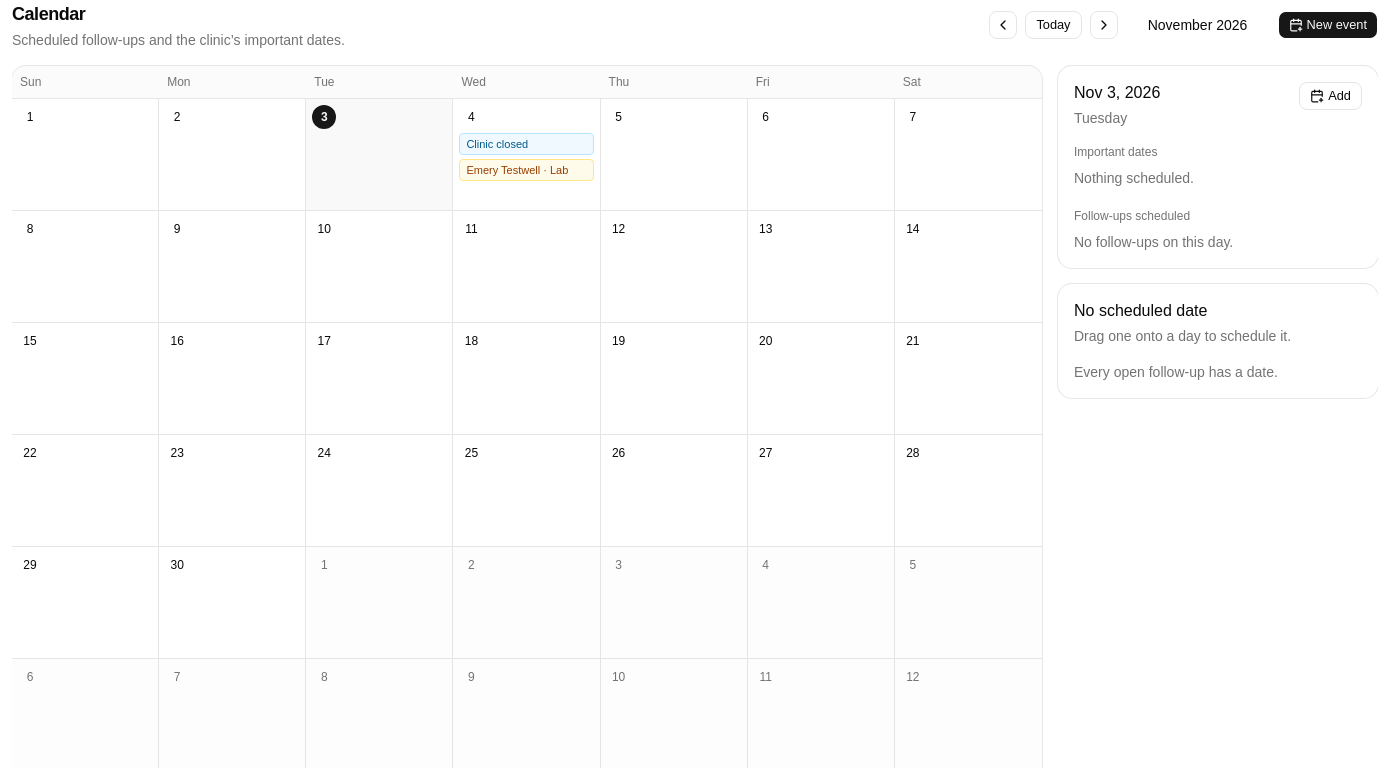
it: Calendar › puts events and follow-ups on their day
This screenshot has width=1390, height=768.
Click the 1st button "4". click: (471,117)
box: [459, 105, 483, 129]
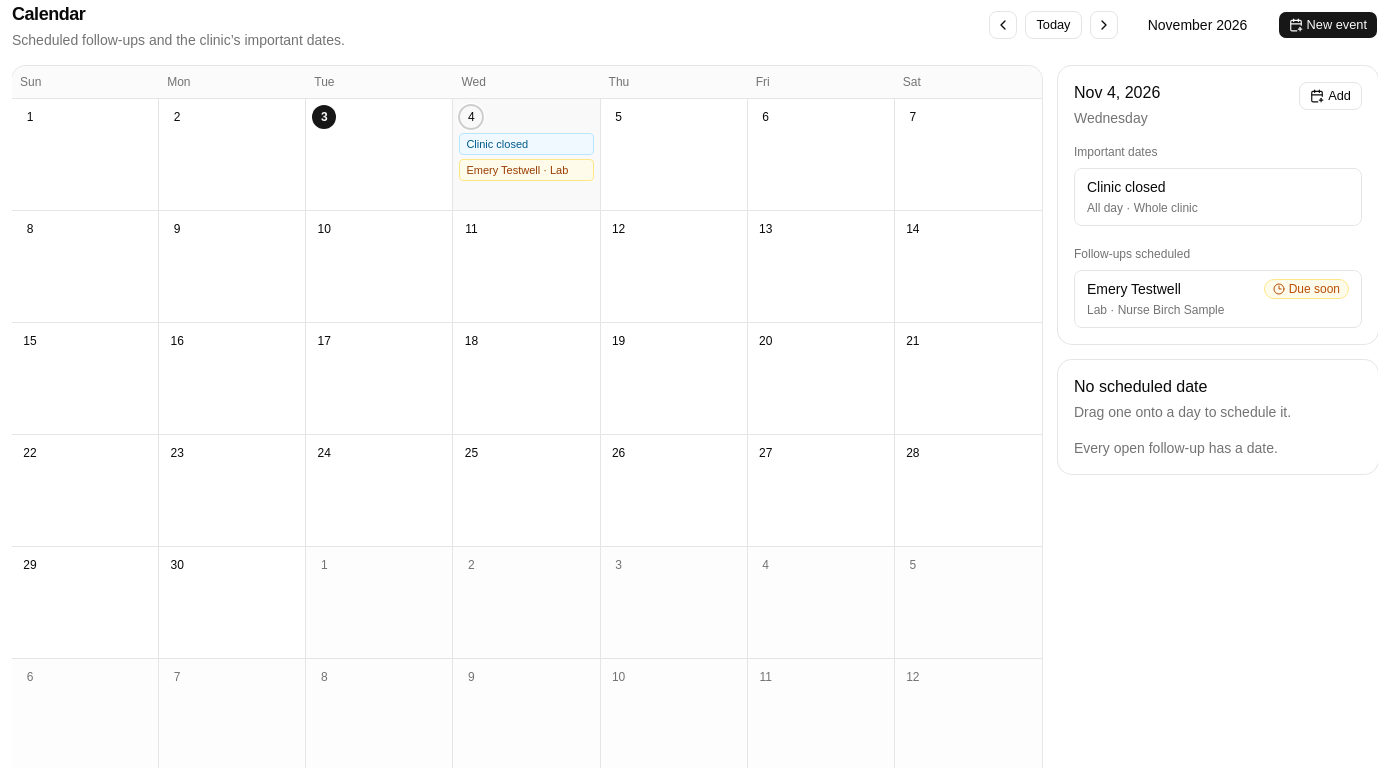
Expected: the number of buttons "Clinic closed" is 2, [459, 133, 594, 155]; [1087, 179, 1166, 195]
Now the text "Emery Testwell" is shown, box [1087, 281, 1181, 297]
